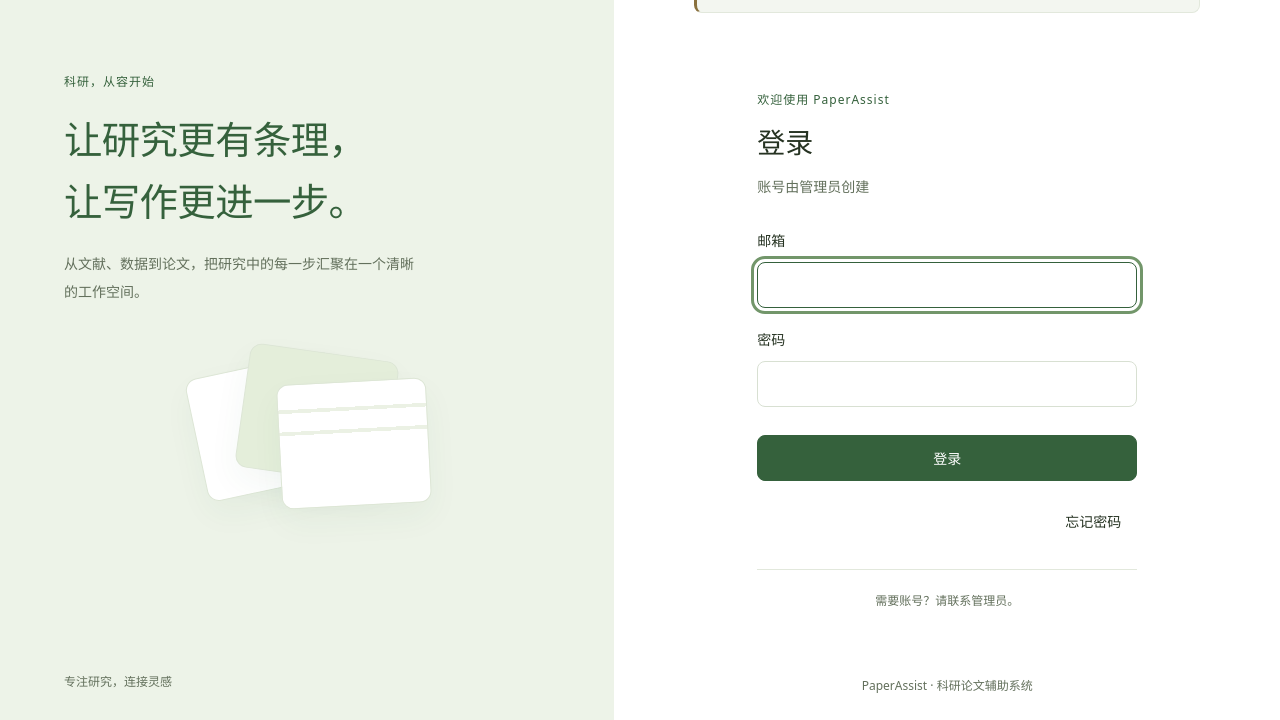
Test: shows safe reset error 400 without reflecting credentials
(page scrolled)
Click the button "忘记密码" at point(1093, 521), box 1049,501 -> 1137,541
(page scrolled)
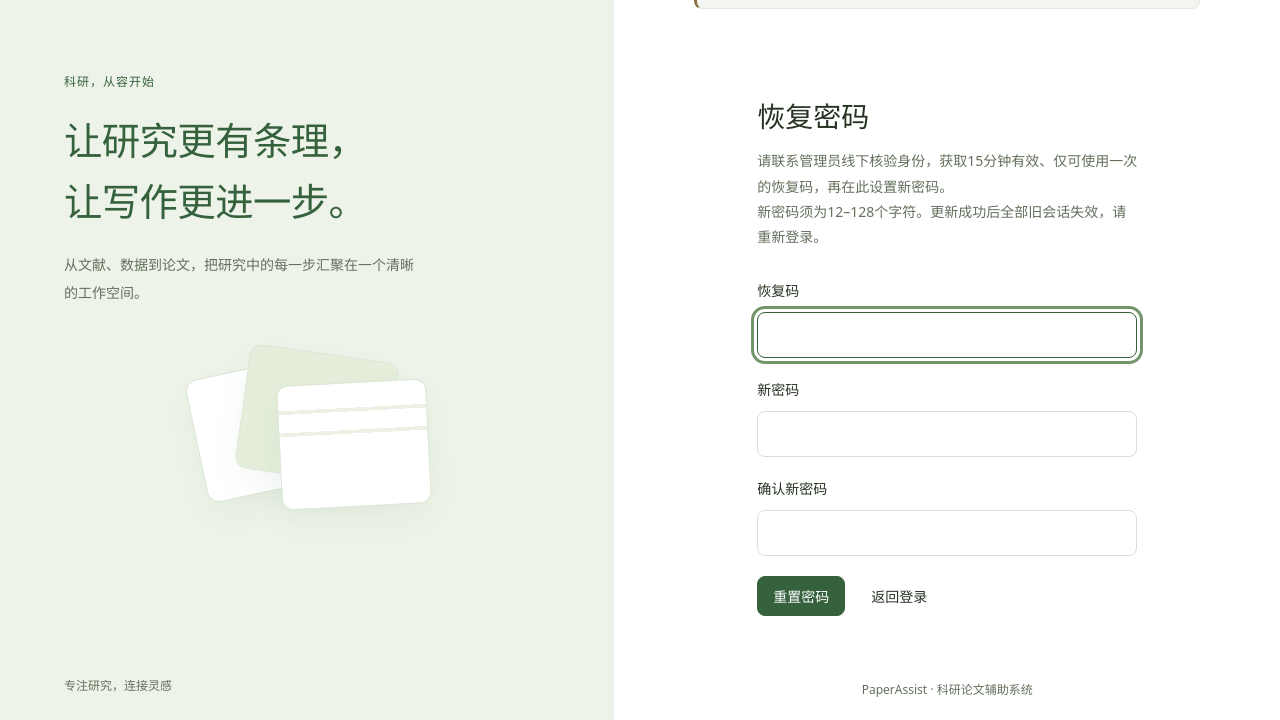
Type "one-use-code" into the password field labelled "恢复码" at point(947, 335), box 757,312 -> 1137,358
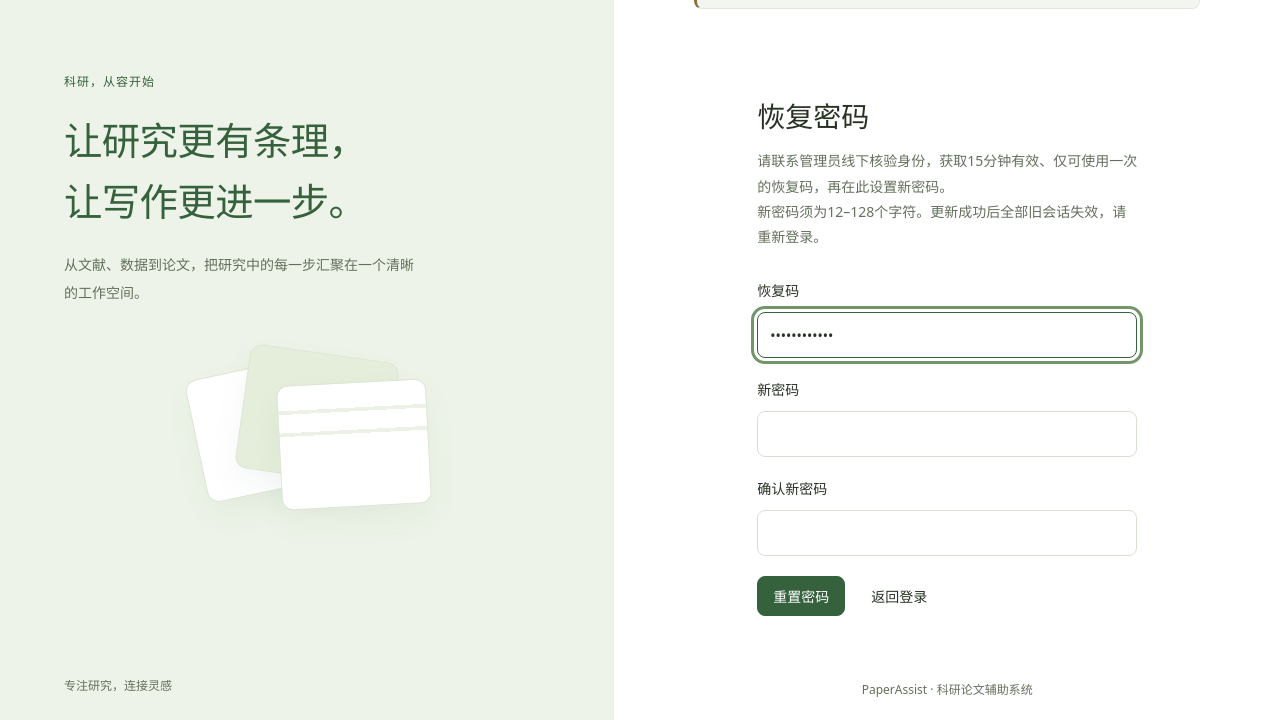
Type "new-password-123" into the password field labelled "新密码" at point(947, 434), box 757,411 -> 1137,457
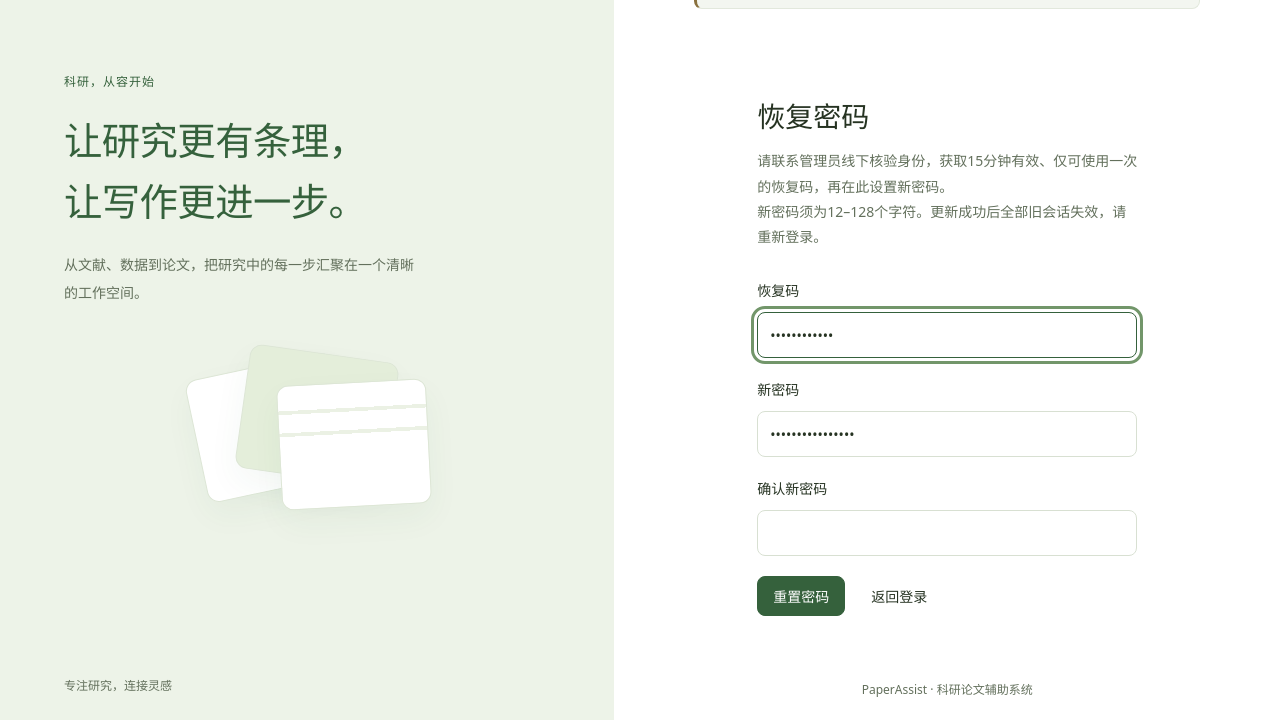
Type "new-password-123" into the password field labelled "确认新密码" at point(947, 534), box 757,510 -> 1137,556
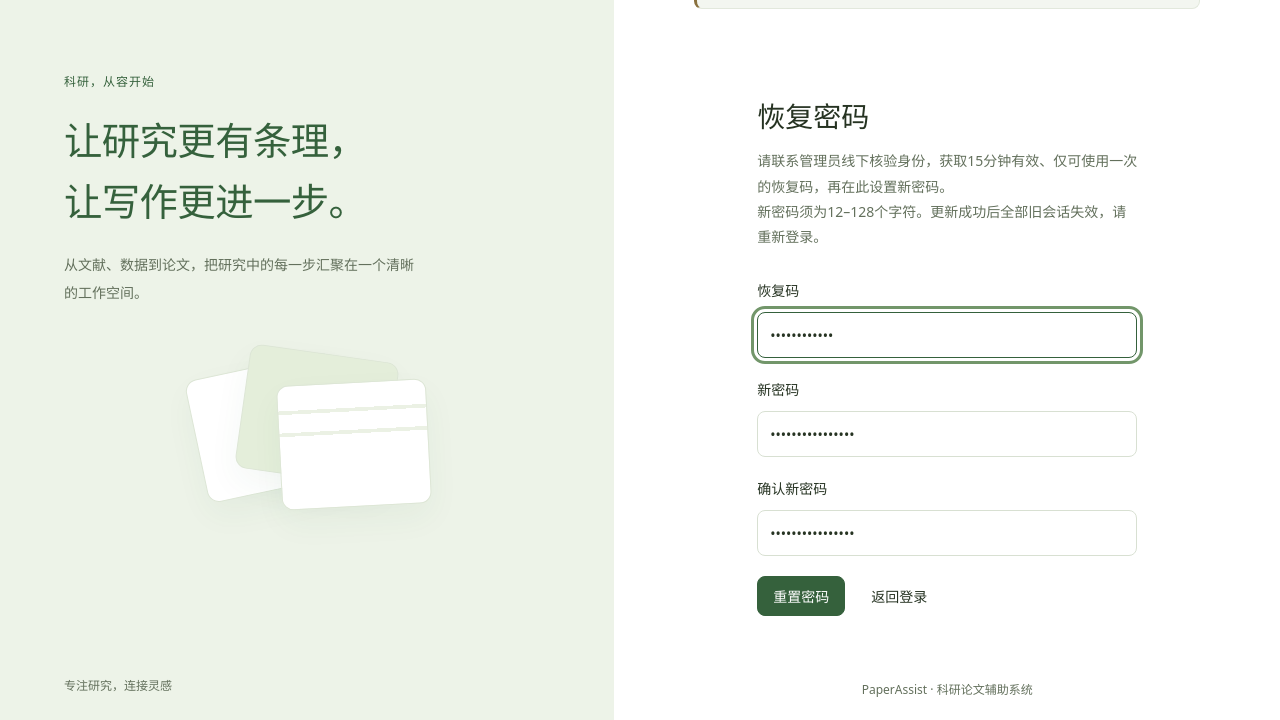
Submit the form labelled "新密码", box 757,279 -> 1137,616
(page scrolled)
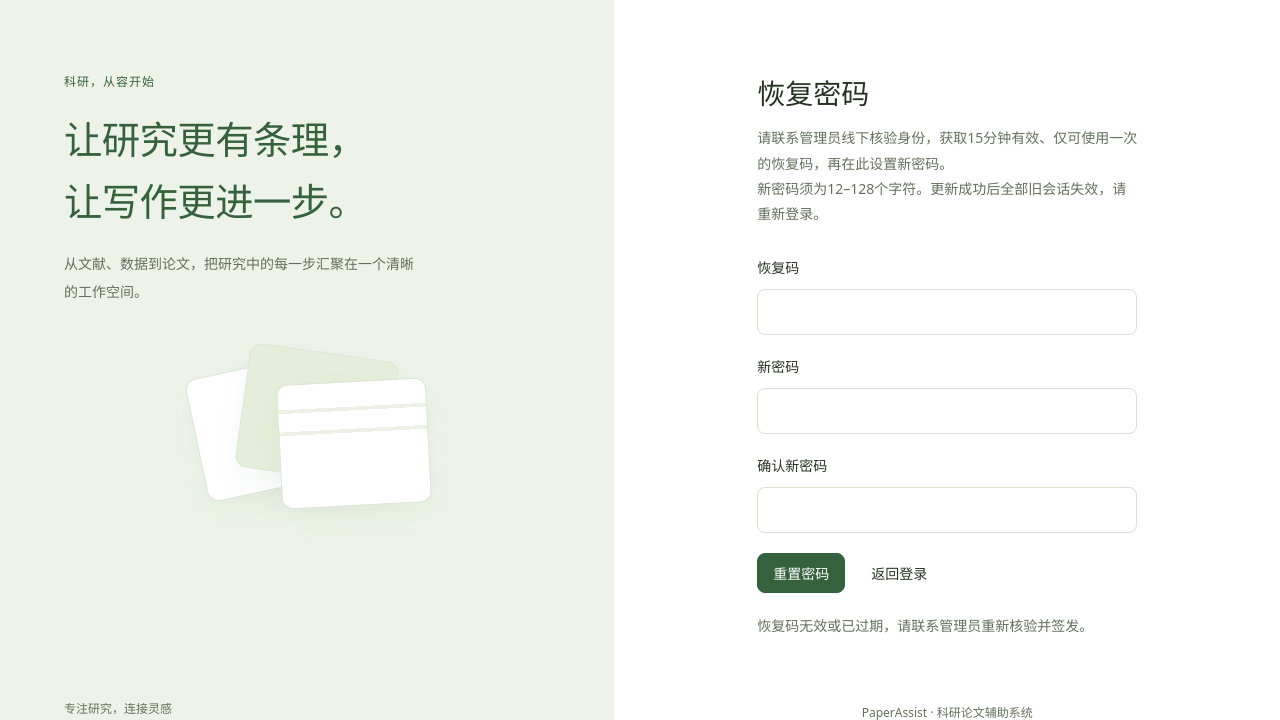
Now the message shows "恢复码无效或已过期", box 757,616 -> 1093,636
Now the password field labelled "新密码" is empty, box 757,388 -> 1137,434
Now the password field labelled "恢复码" is empty, box 757,289 -> 1137,335
